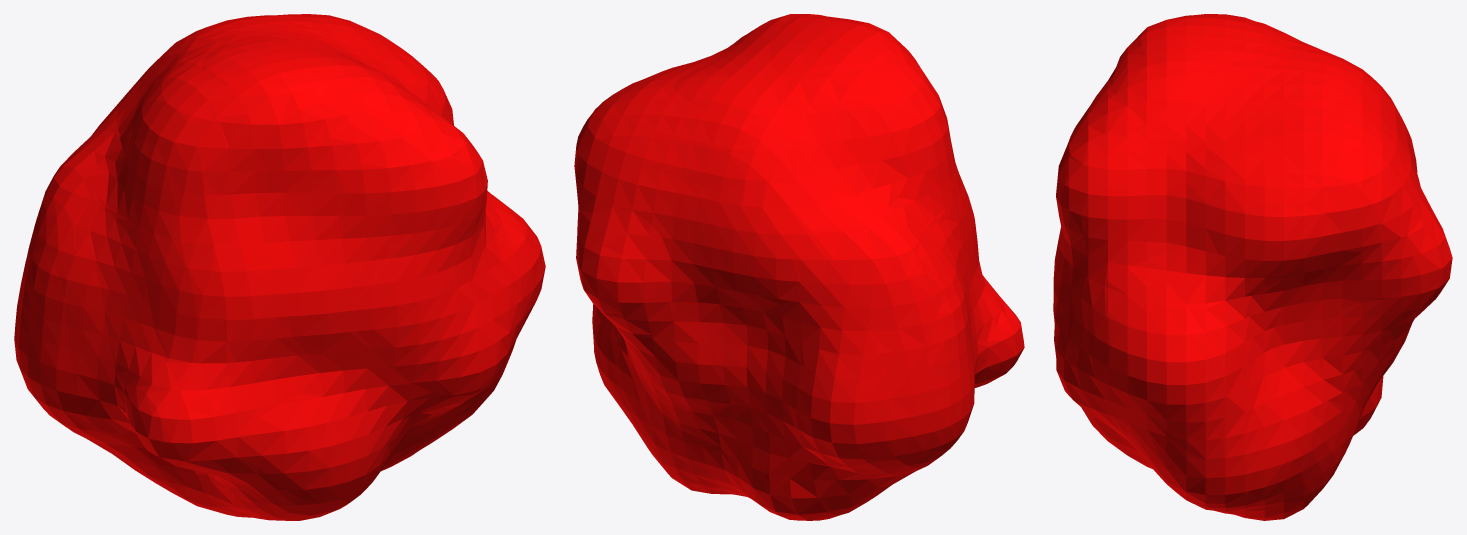
Rendered from trxA_coarse.dae.
3 renders of one model, left to right at view 1: azimuth 30°, elevation 25°; view 2: azimuth 150°, elevation 25°; view 3: azimuth 270°, elevation 25°, orthographic. The views are drawn at different scales.
Visible parts, largest first — view 1: trxA; view 2: trxA; view 3: trxA.
Boxes of the visible parts, bbox=[...] form: trxA: bbox=[14, 14, 545, 520]; trxA: bbox=[574, 14, 1024, 520]; trxA: bbox=[1053, 14, 1452, 520].
Size of the model in its own units: 37.36 by 37.58 by 30.7.
